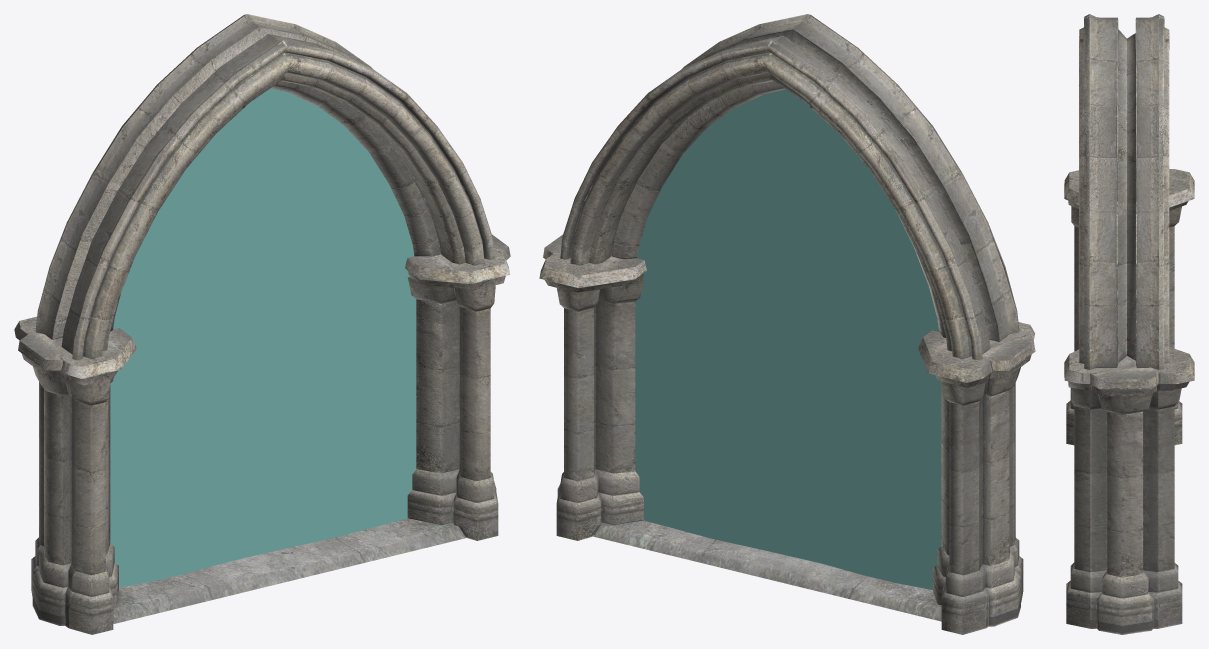
The model's file is Magic_Portal_Mesh.fbx.
3 renders of one model, left to right at view 1: azimuth 30°, elevation 25°; view 2: azimuth 150°, elevation 25°; view 3: azimuth 270°, elevation 25°, orthographic. The views are drawn at different scales.
Parts seen in each view (by area): view 1: Magic_Portal_Edge_Glow, Magic_Portal, Portal_Step; view 2: Magic_Portal_Edge_Glow, Magic_Portal, Portal_Step; view 3: Magic_Portal.
Part boxes in pixels (left/top/right/bottom): Magic_Portal_Edge_Glow: left=110, top=88, right=416, bottom=587; Magic_Portal: left=14, top=14, right=510, bottom=634; Portal_Step: left=113, top=518, right=465, bottom=623; Magic_Portal_Edge_Glow: left=635, top=89, right=941, bottom=589; Magic_Portal: left=539, top=14, right=1035, bottom=634; Portal_Step: left=594, top=520, right=941, bottom=621; Magic_Portal: left=1064, top=14, right=1194, bottom=634.
Size of the model in its own units: 292 by 321 by 73.66.
Materials: 2 (2 with a texture image).
